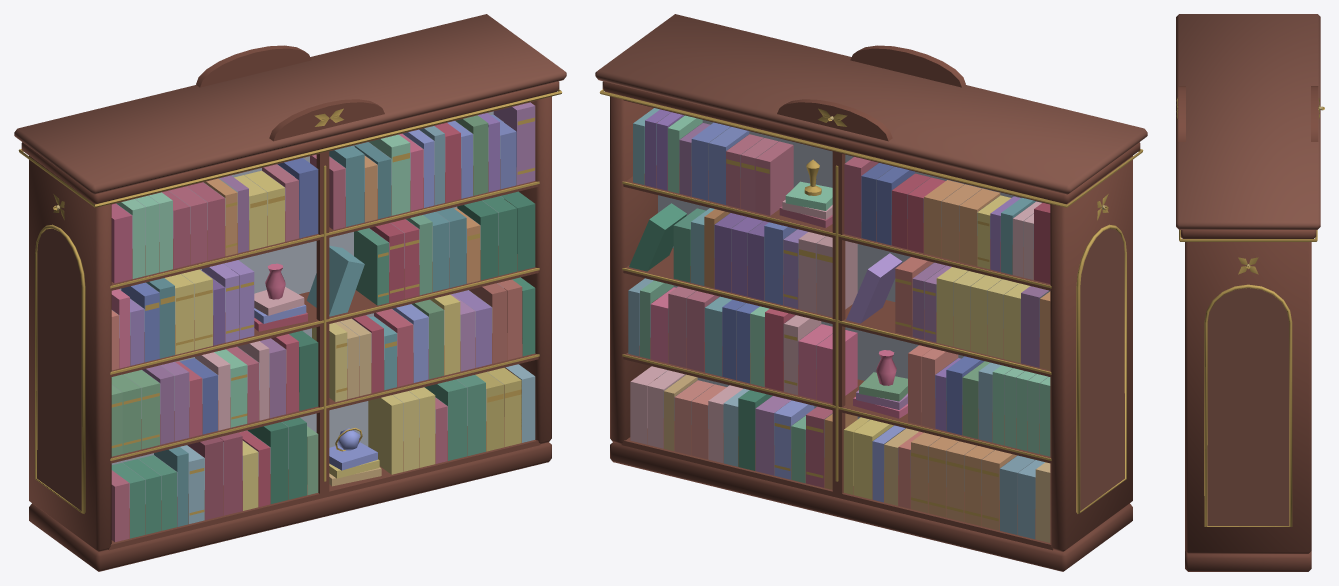
Rendered from library_stack.glb.
3 renders of one model, left to right at view 1: azimuth 30°, elevation 25°; view 2: azimuth 150°, elevation 25°; view 3: azimuth 270°, elevation 25°, orthographic. The views are drawn at different scales.
Visible parts, largest first — view 1: library_stack; view 2: library_stack; view 3: library_stack.
Boxes of the visible parts, x1,y1,x2,y2 form: library_stack: (14,14,566,571); library_stack: (595,14,1147,571); library_stack: (1176,14,1324,571).
Size of what is drawn, in the model's own units: 3 by 2.5 by 0.9.
